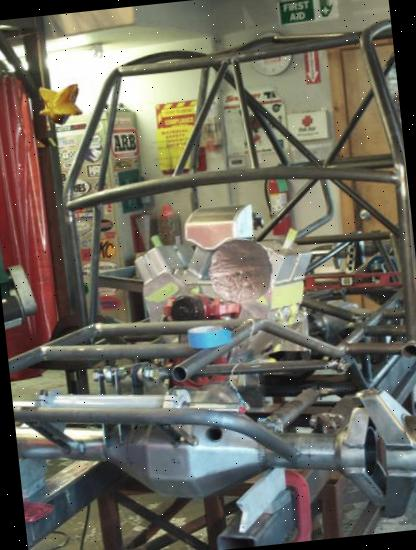Carambula: (32, 77, 88, 133)
Walnut: (204, 235, 276, 308)
